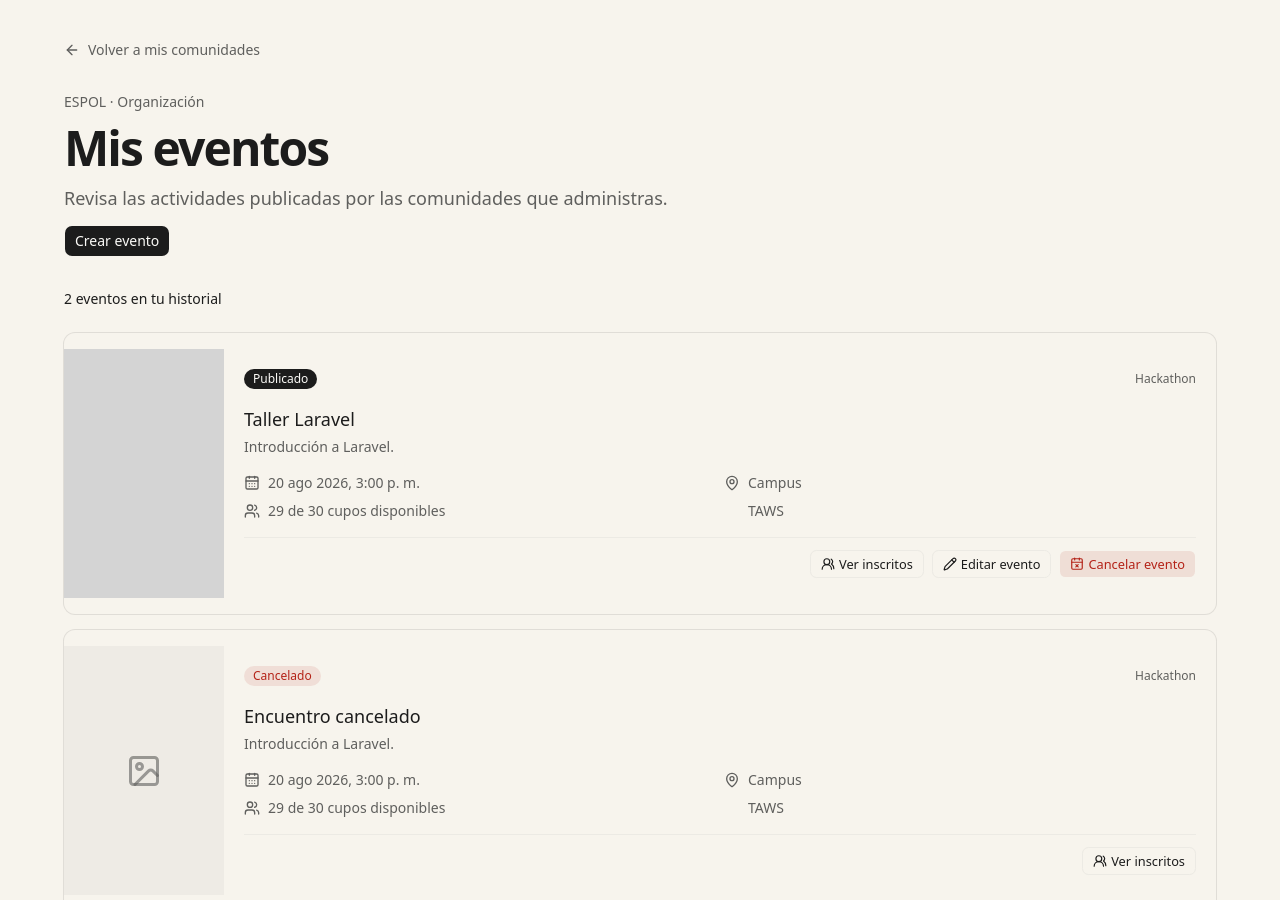
Test case: organizer events page › shows the centralized cancellation error for status 403
Check: the link "Taller Laravel" is shown, box left=244, top=407, right=355, bottom=431
Click the button with aria-label "Cancelar evento Taller Laravel" at x=1128, y=564, box left=1059, top=550, right=1196, bottom=578
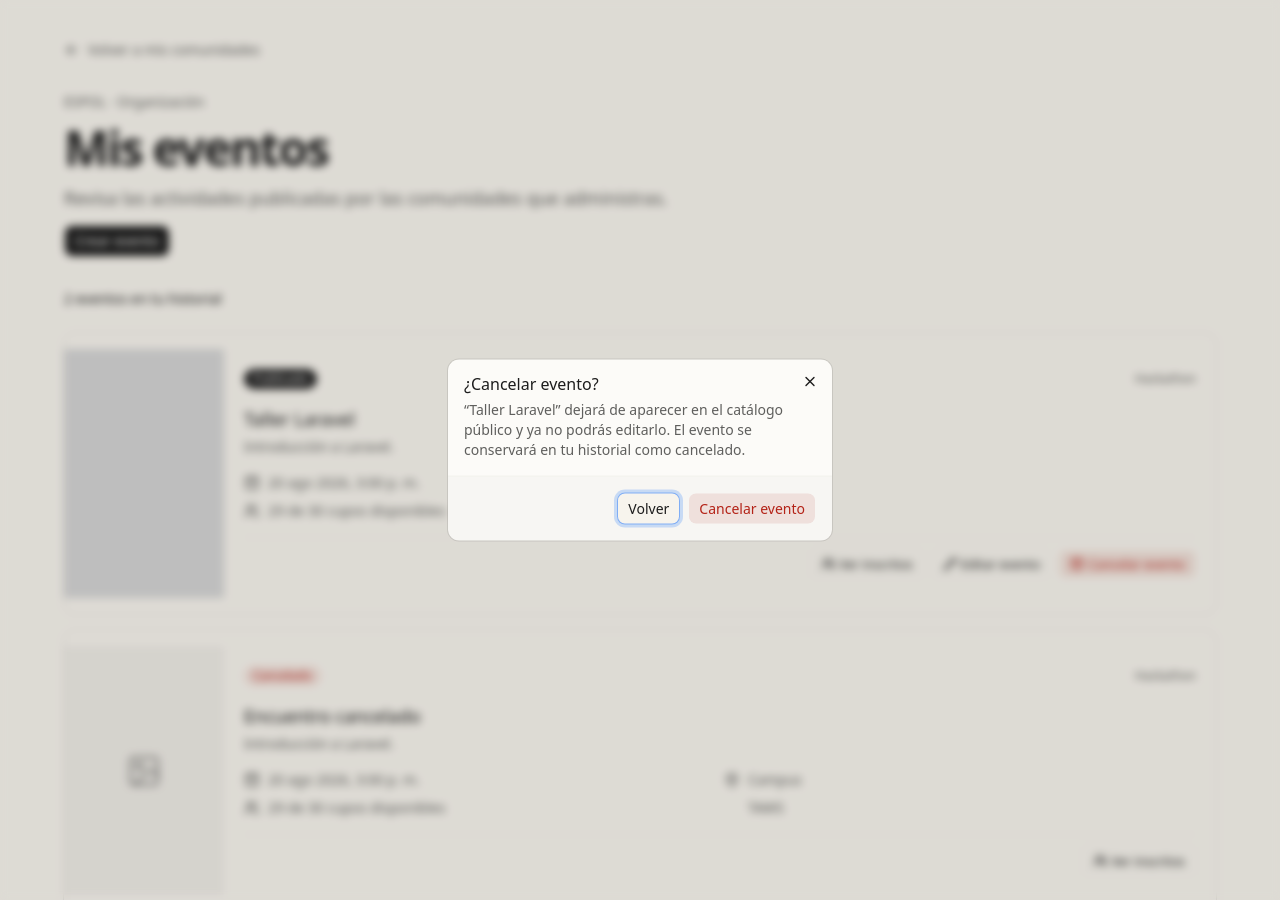
Click the button "Cancelar evento" at x=752, y=508, box left=688, top=492, right=816, bottom=524
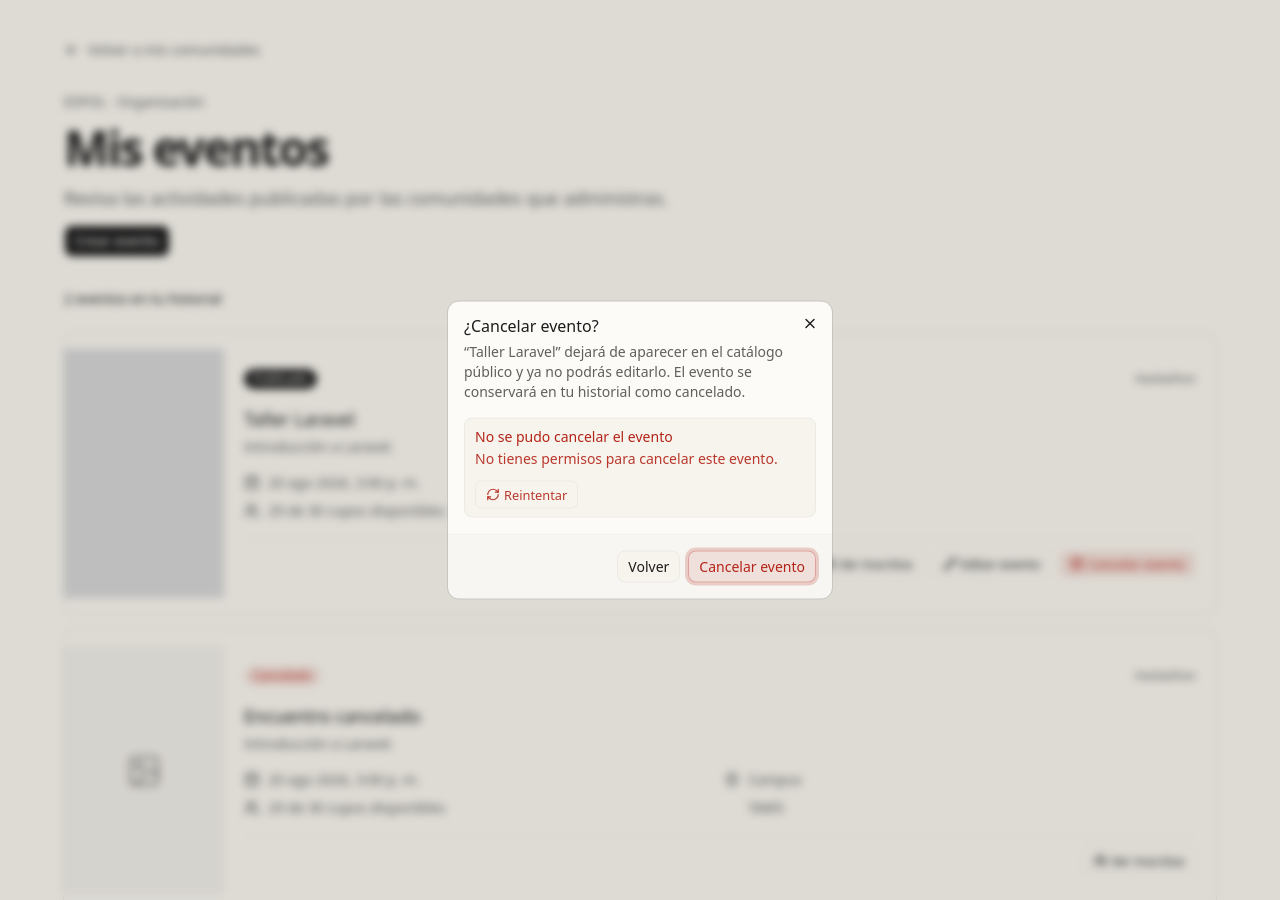
Check: the text "No tienes permisos para cancelar este evento." is shown, box left=475, top=448, right=778, bottom=468
Check: the button "Reintentar" is shown, box left=475, top=480, right=578, bottom=508
